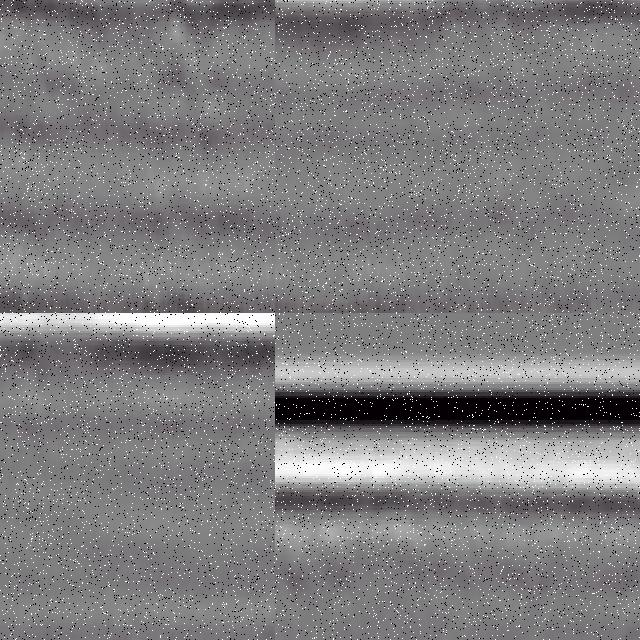loose: (1, 10, 215, 144)
